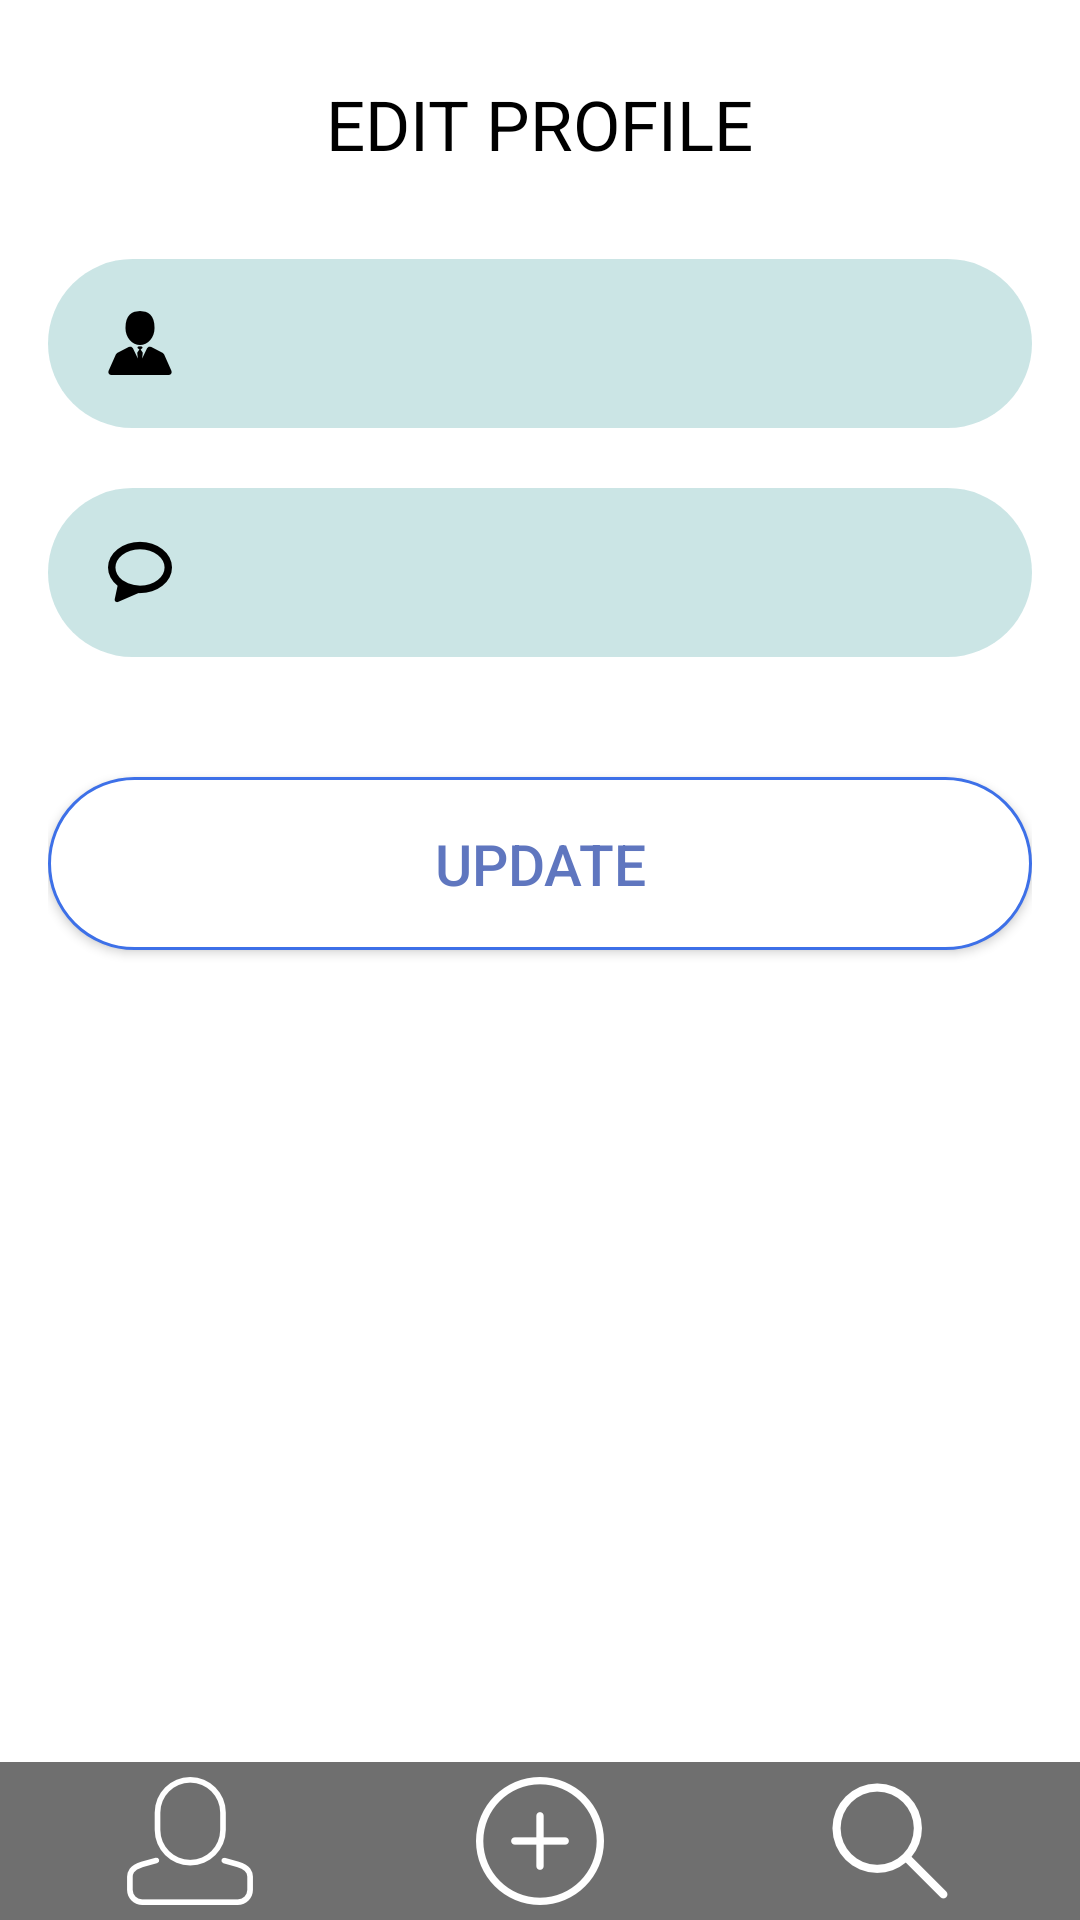

Locate icon controls on the screen. Image size 1080x1920, boxes as (x1, y1, x2, y2).
plus: (476, 1777, 604, 1905)
search: (832, 1783, 948, 1899)
useravatar: (127, 1777, 253, 1905)
